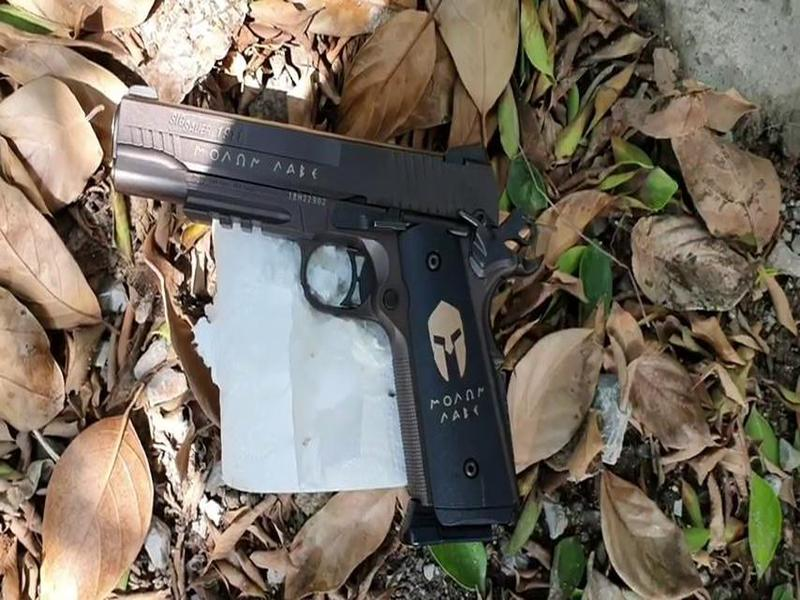Pistola: (95, 63, 530, 564)
